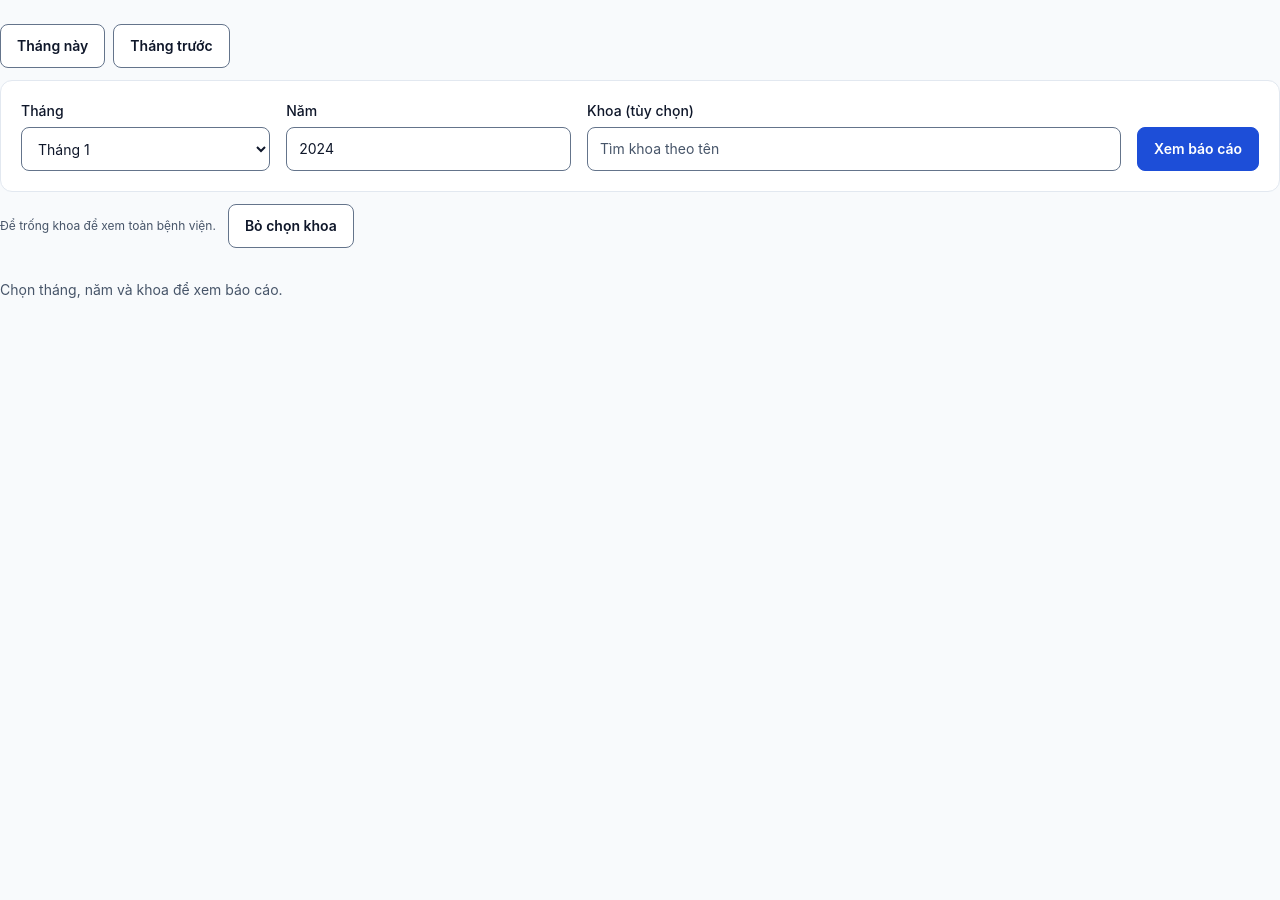
Test: MonthlyReportView › discards a response from an earlier manual request
Submit the form labelled "Tháng", box 0,80 -> 1279,192
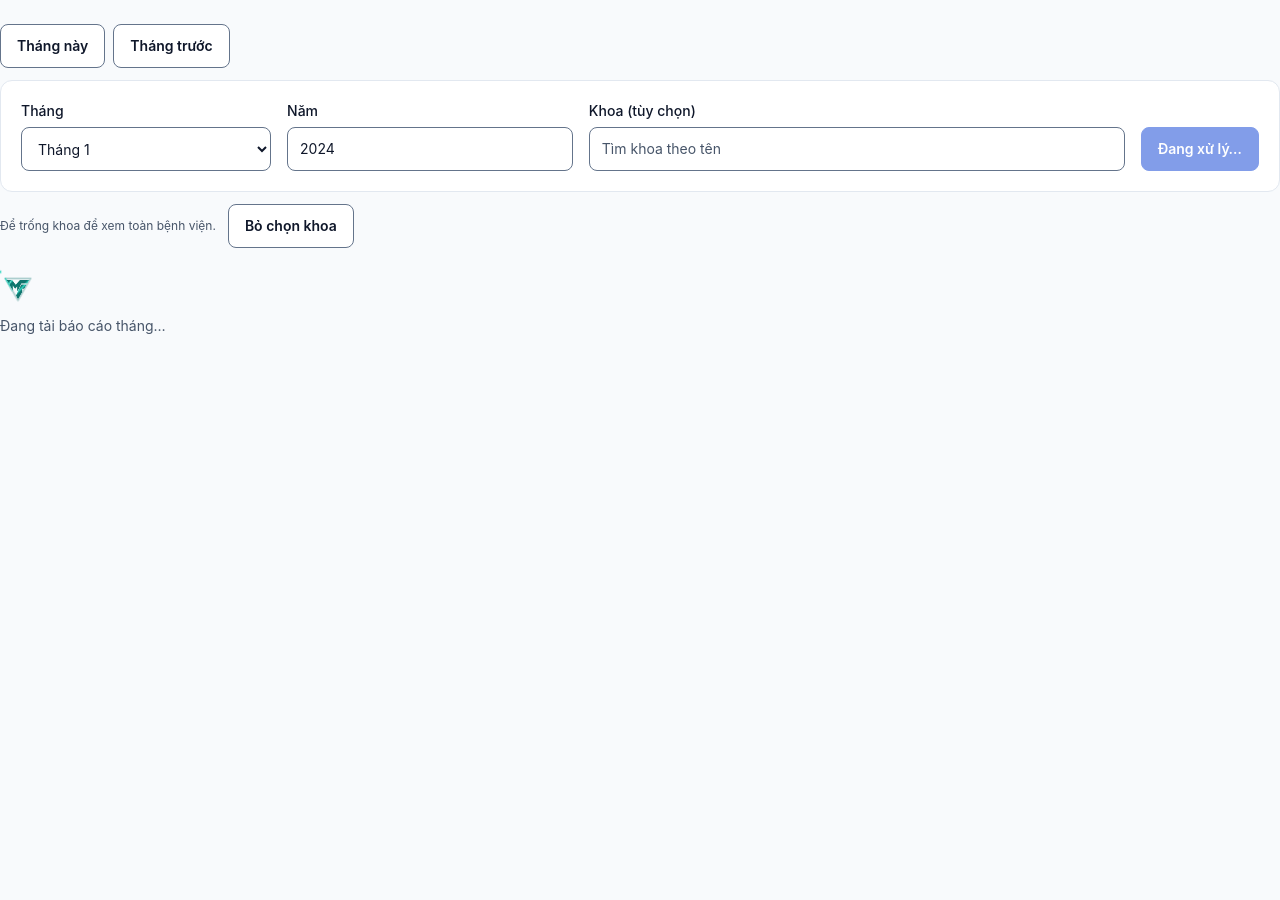
Select "Tháng 2" in the dropdown labelled "Tháng": [146, 149] box 21,127 -> 271,171
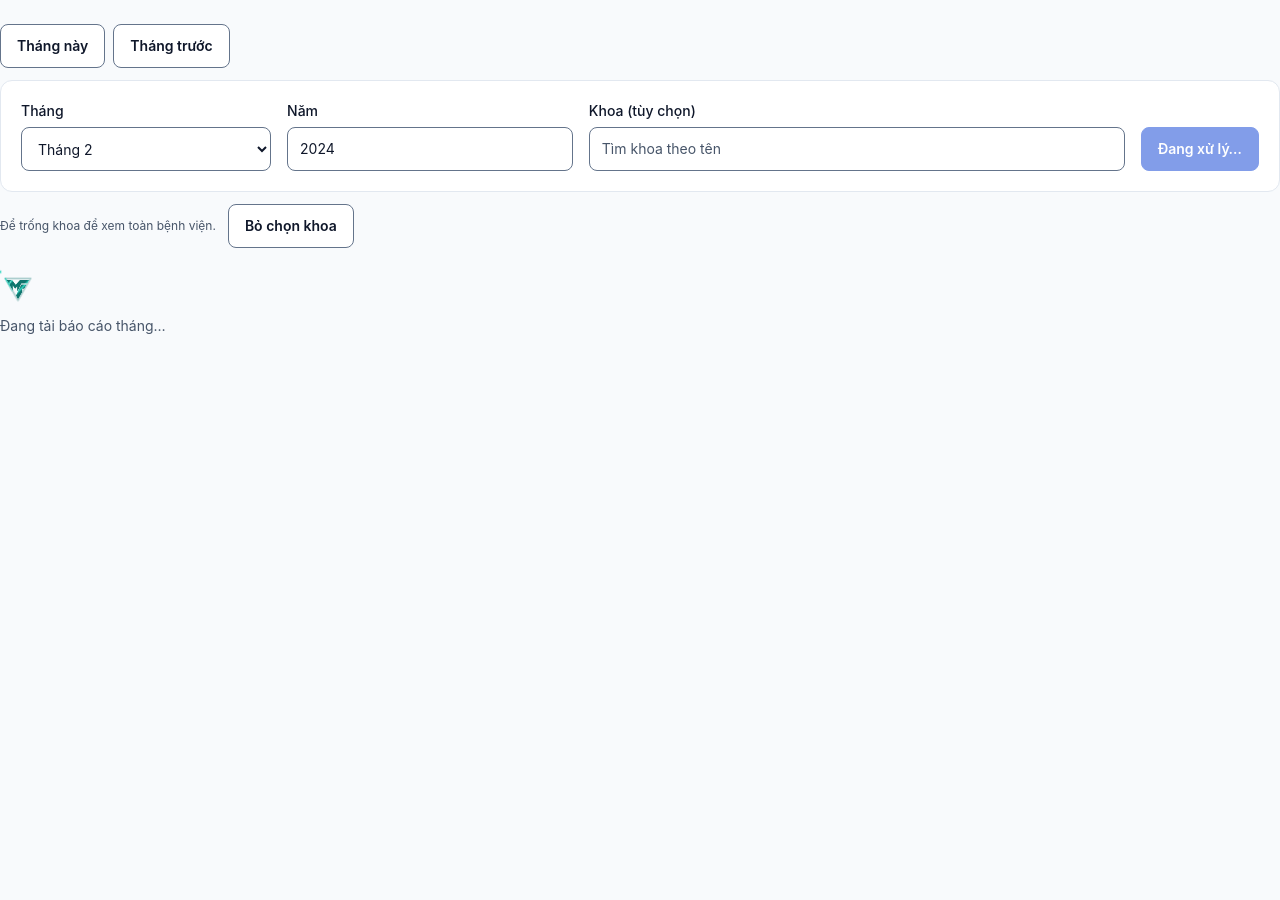
Submit the form labelled "Tháng", box 0,80 -> 1279,192
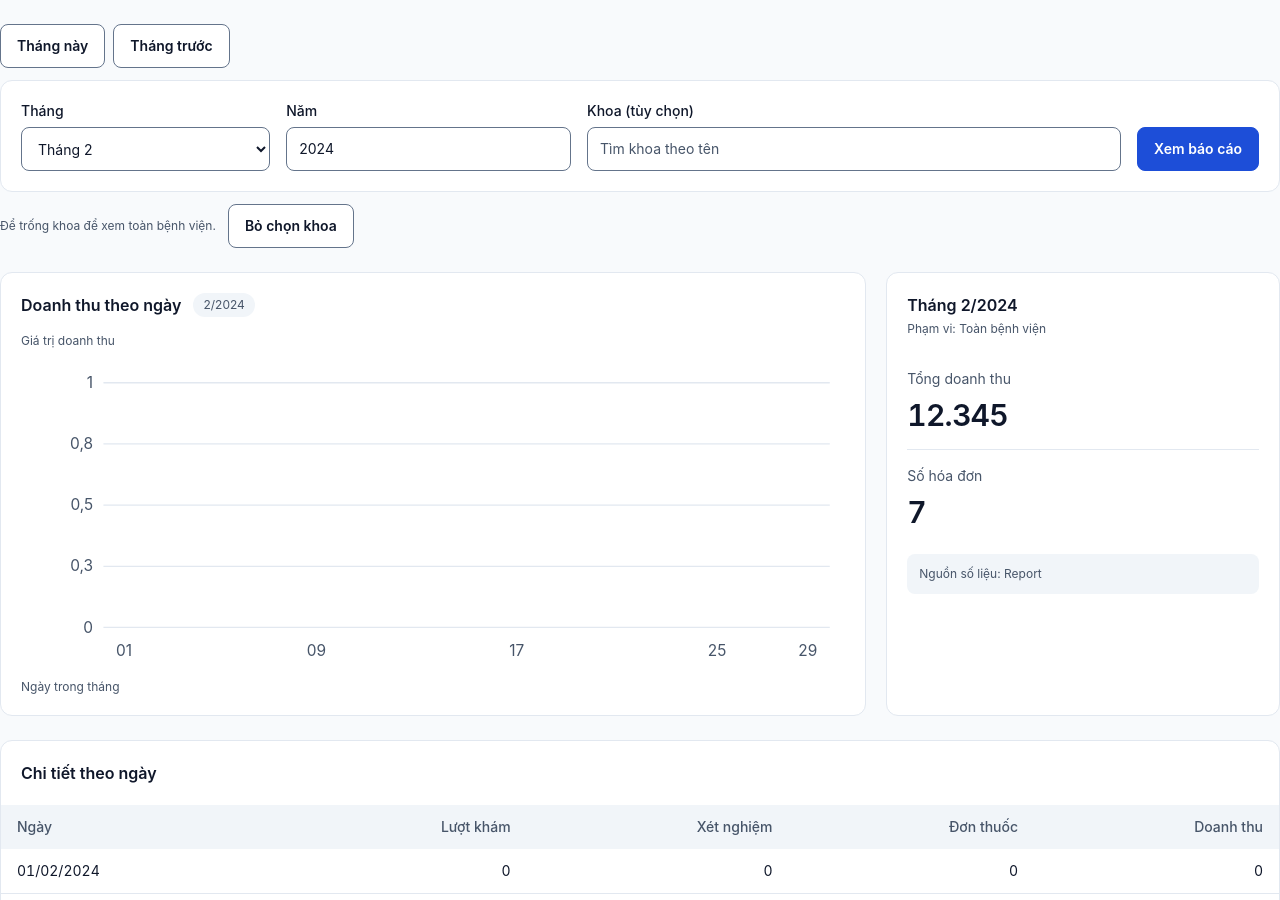
Expected: the heading "Tháng 2/2024" is shown, 907,295 -> 1018,315
